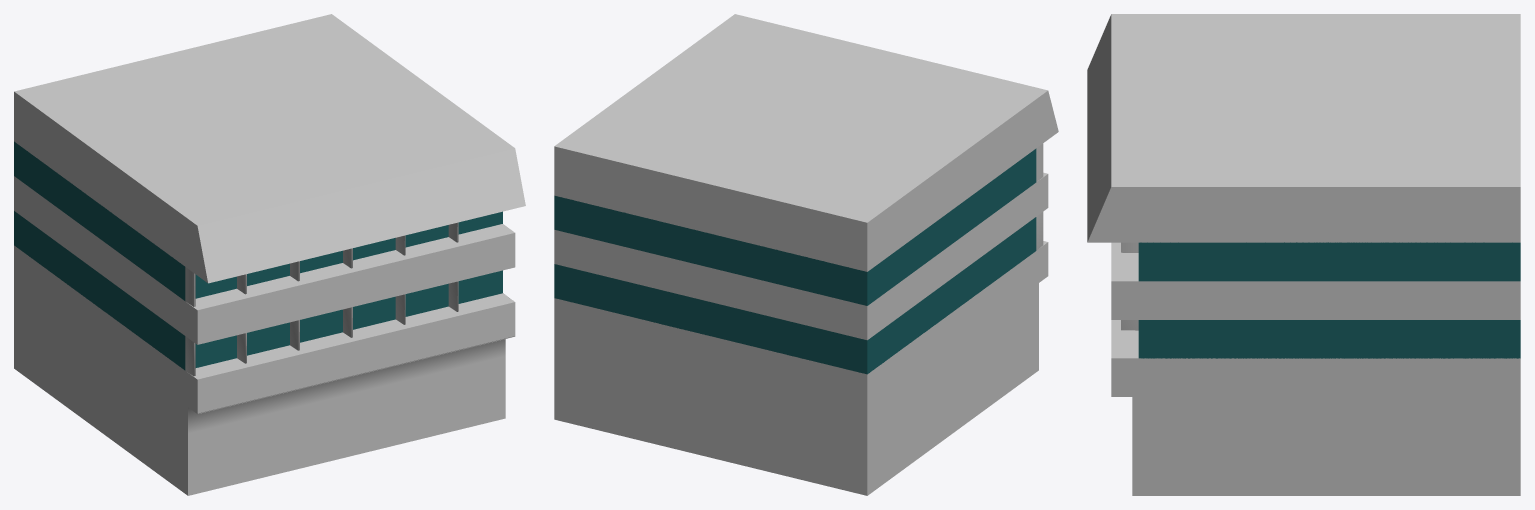
File: Terminal_End.fbx
3 renders of one model, left to right at view 1: azimuth 30°, elevation 25°; view 2: azimuth 150°, elevation 25°; view 3: azimuth 270°, elevation 25°, orthographic. The views are drawn at different scales.
Parts seen in each view (by area): view 1: Terminal_End; view 2: Terminal_End; view 3: Terminal_End.
Boxes of the visible parts, x1,y1,x2,y2 form: Terminal_End: (14, 14, 525, 495); Terminal_End: (554, 14, 1058, 495); Terminal_End: (1087, 14, 1520, 495).
Bounding box in the file's own units: 90 × 75 × 95.25.
